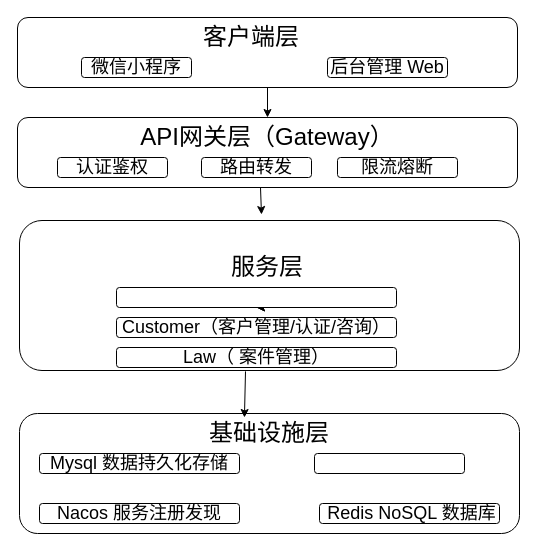
The diagram is 537 pixels wide and 559 high, and some of its shapes have lost their labels. The shapes that lost their labels are listed below. From the top down, each one's centre as x and y in pixels, then its label:
At [256,297]: "System 服务（系统管理/权限）".
At [389,463]: "MinIO 文件存储".
